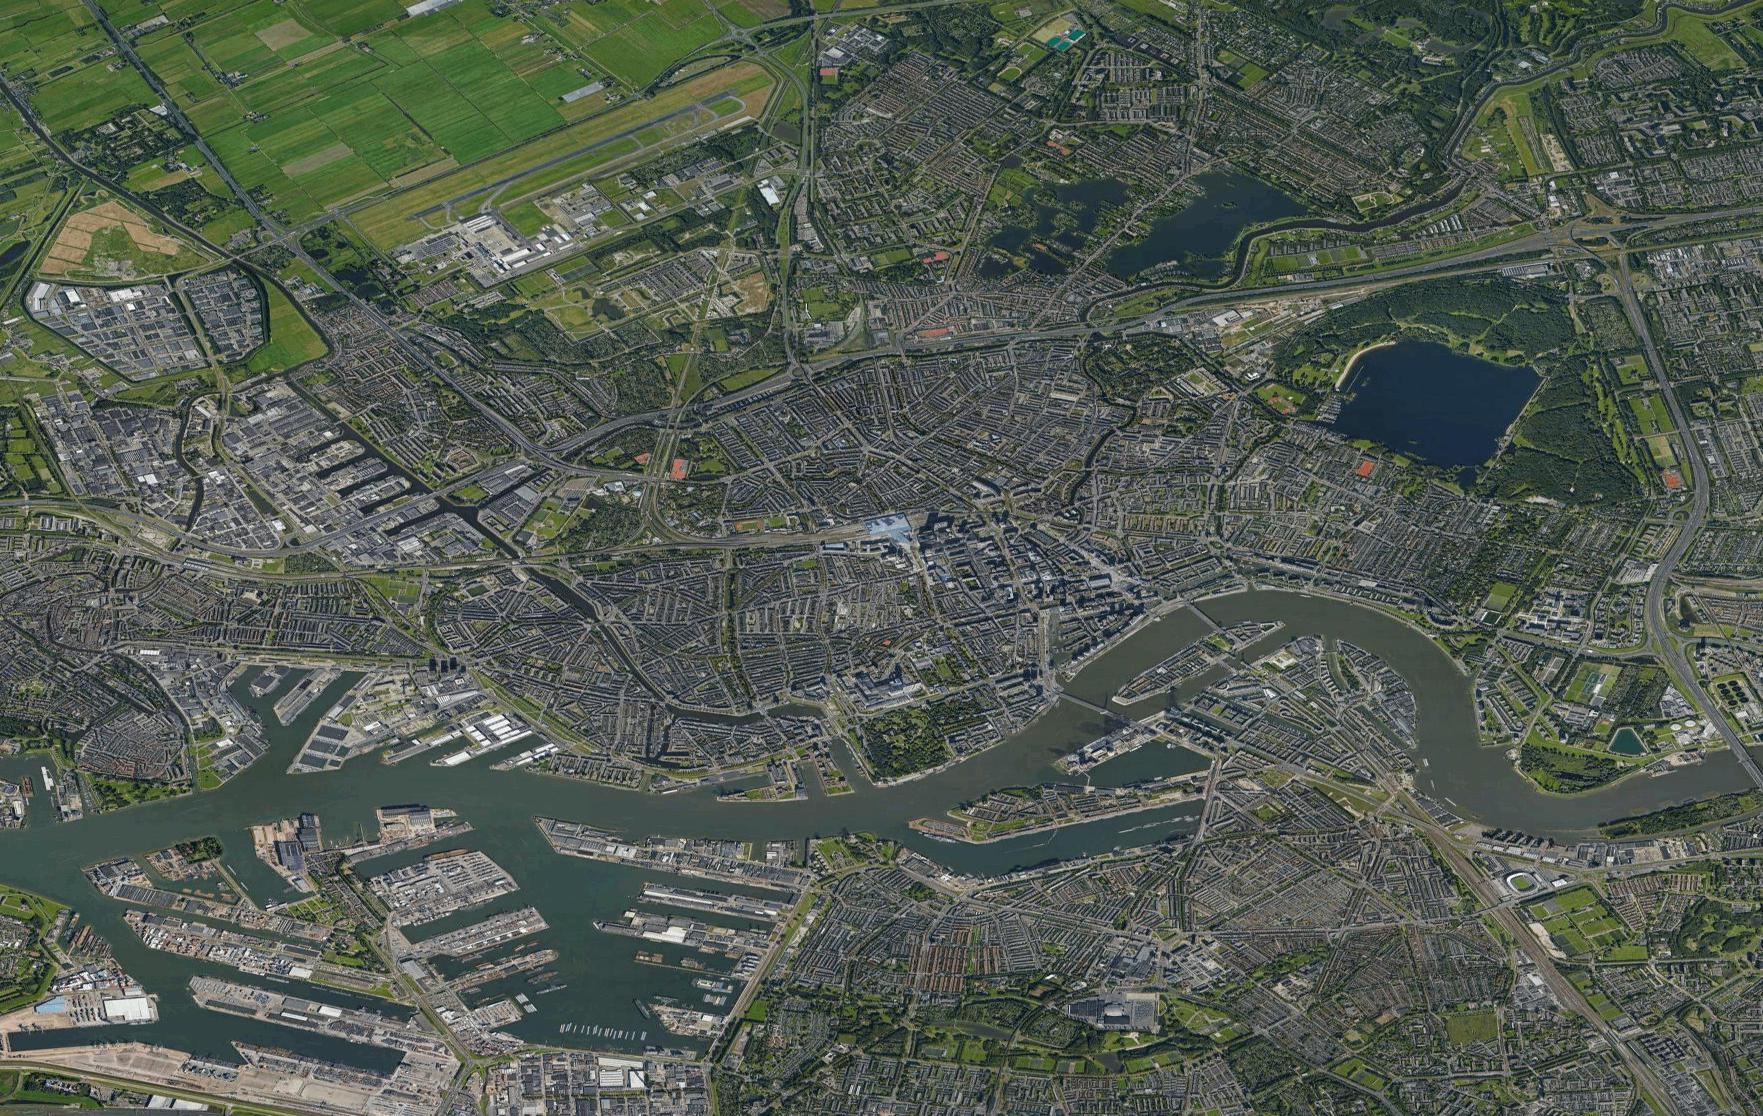bridge: (1050, 684, 1136, 726), (1726, 734, 1762, 796), (1181, 597, 1227, 636)
harbor: (342, 815, 795, 1065), (12, 843, 412, 1080), (213, 660, 391, 802), (880, 806, 1207, 883), (380, 721, 559, 779)
motorway: (1643, 474, 1712, 643), (1667, 639, 1742, 752), (1652, 363, 1713, 474), (1610, 247, 1661, 360)
train_station: (830, 510, 929, 558)
